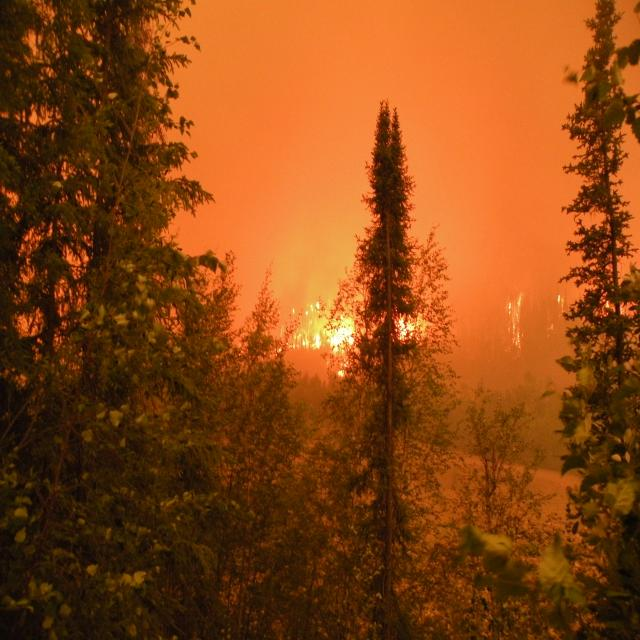Fire: (289, 308, 418, 354)
